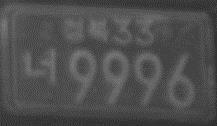3: (112, 16, 133, 45), (135, 18, 155, 47)
6: (166, 52, 196, 107)
9: (68, 48, 98, 105), (102, 49, 130, 105), (134, 52, 163, 106)
경북_O: (62, 17, 108, 42)
너: (23, 48, 58, 86)
